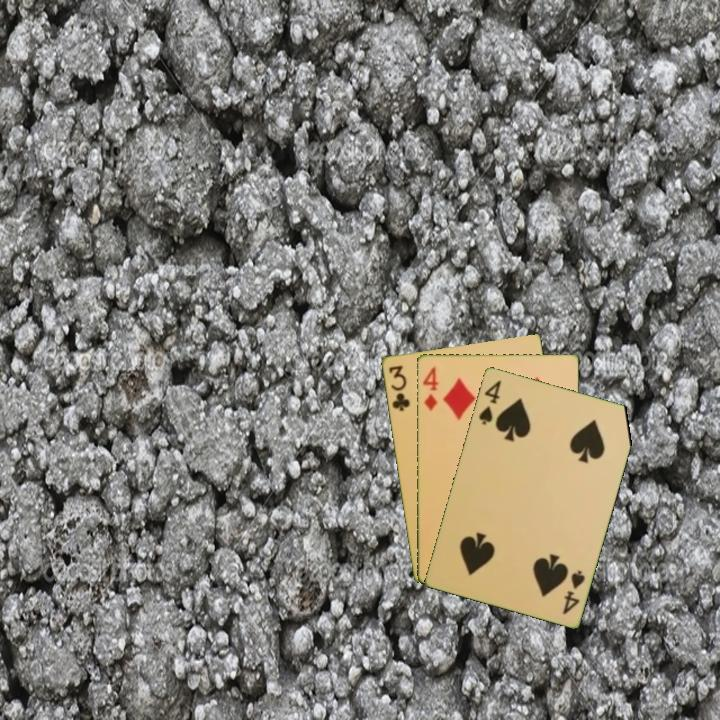3c: (385, 361, 412, 414)
4d: (419, 363, 441, 413)
4s: (475, 376, 504, 427), (559, 566, 588, 617)
